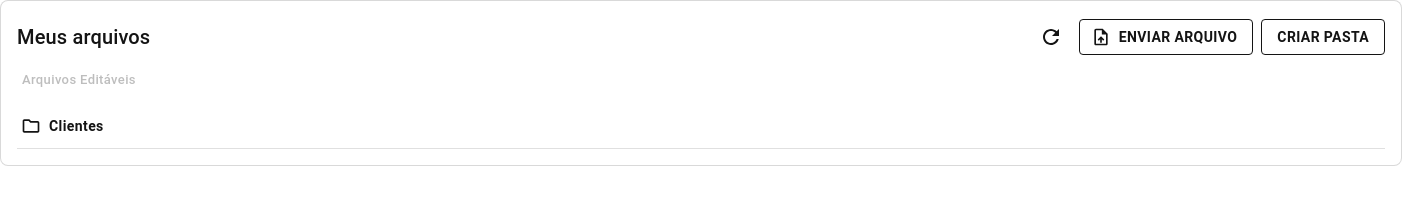
uploads a file into the currently open folder
Click the button "Clientes" at (76, 126), box [17,104,1385,148]
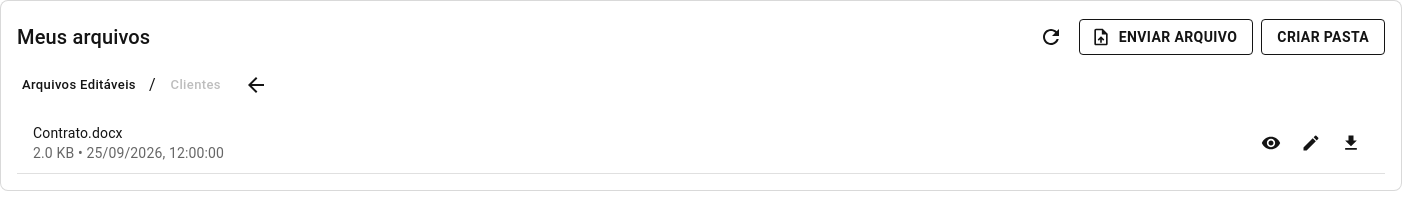
Result: the button "Contrato.docx" is shown at [33,123,123,143]
